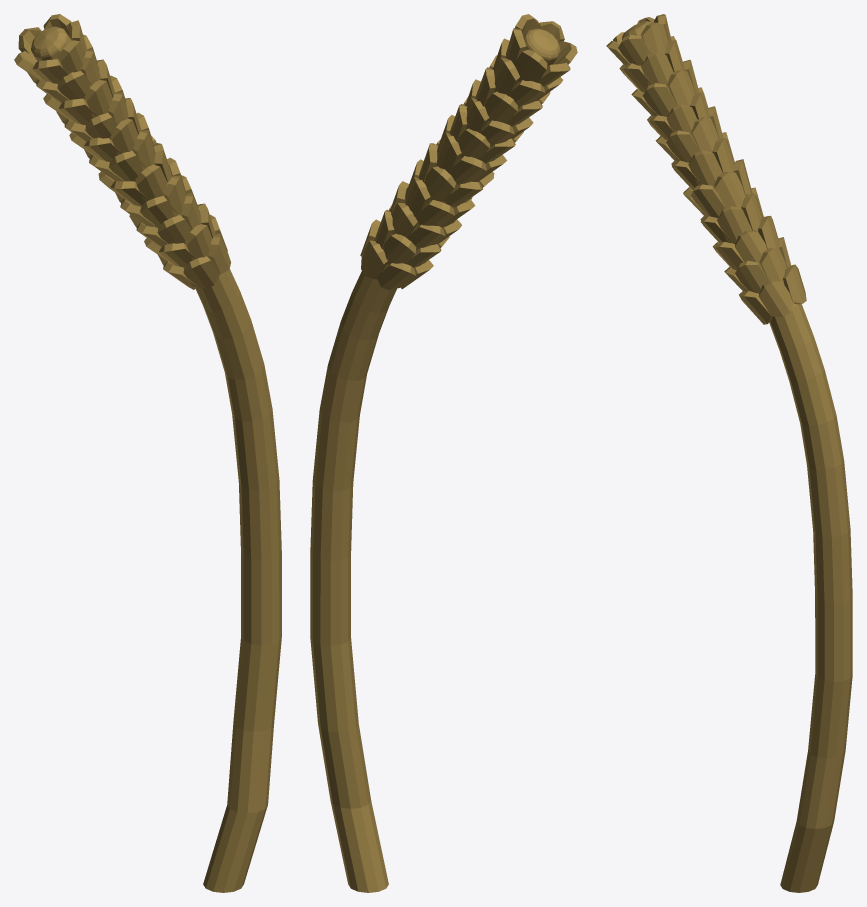
The model's file is colosblend1.fbx.
3 renders of one model, left to right at view 1: azimuth 30°, elevation 25°; view 2: azimuth 150°, elevation 25°; view 3: azimuth 330°, elevation 25°, orthographic. The views are drawn at different scales.
Parts seen in each view (by area): view 1: Окружность.001; view 2: Окружность.001; view 3: Окружность.001.
Boxes of the visible parts, <box> form: Окружность.001: <box>14,14,281,892</box>; Окружность.001: <box>310,14,577,892</box>; Окружность.001: <box>606,14,852,892</box>.
Size of the model in its own units: 95.78 by 318 by 24.43.
